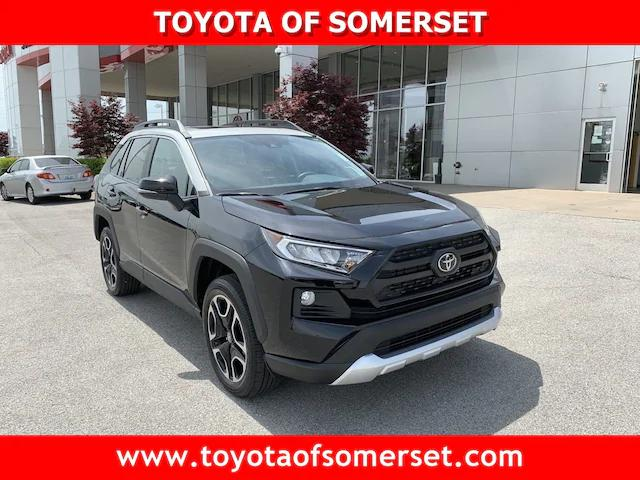Black Toyota RAV-4: (92, 119, 508, 399)
